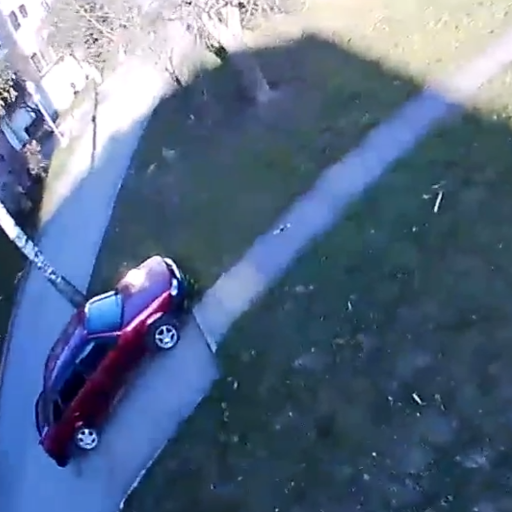Car: (31, 256, 196, 465)
